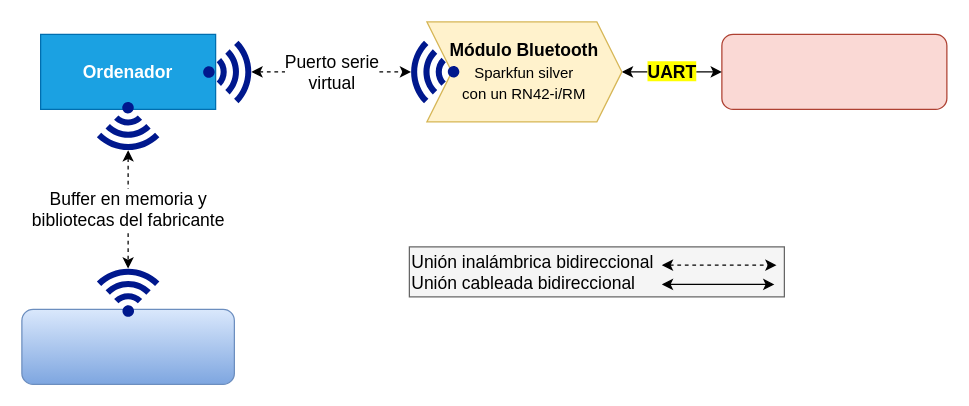
Some shapes in this 969 by 406 pixel diagram are drawn without their labels. Each missing label, with the box of its shape:
Electrogoniómetros: (21, 308, 234, 384)
Estimulador eléctrico: (721, 33, 947, 109)
